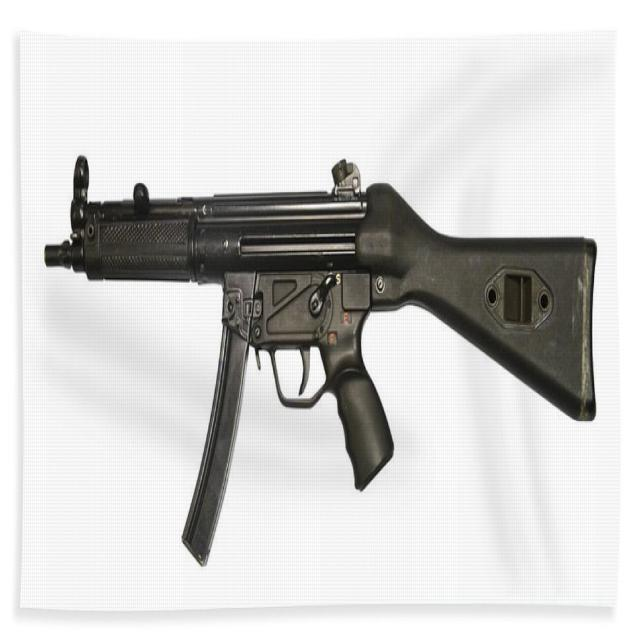SMG: (44, 155, 599, 568)
